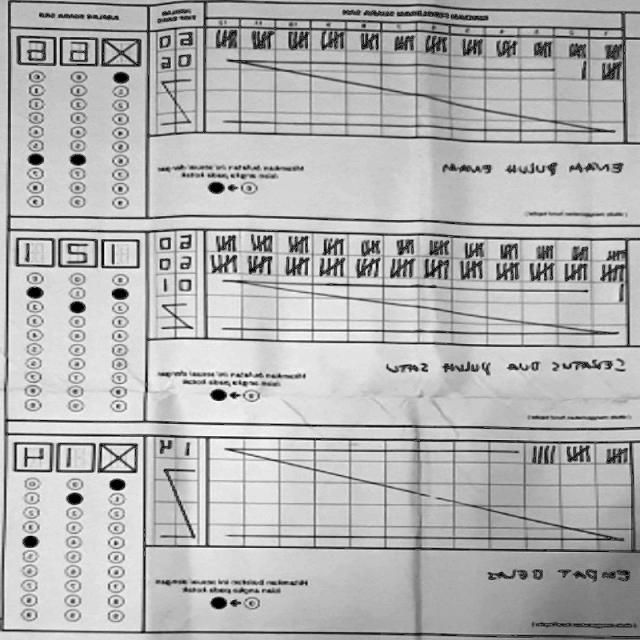Suara: (5, 232, 146, 274), (9, 32, 150, 74), (3, 437, 144, 478)
